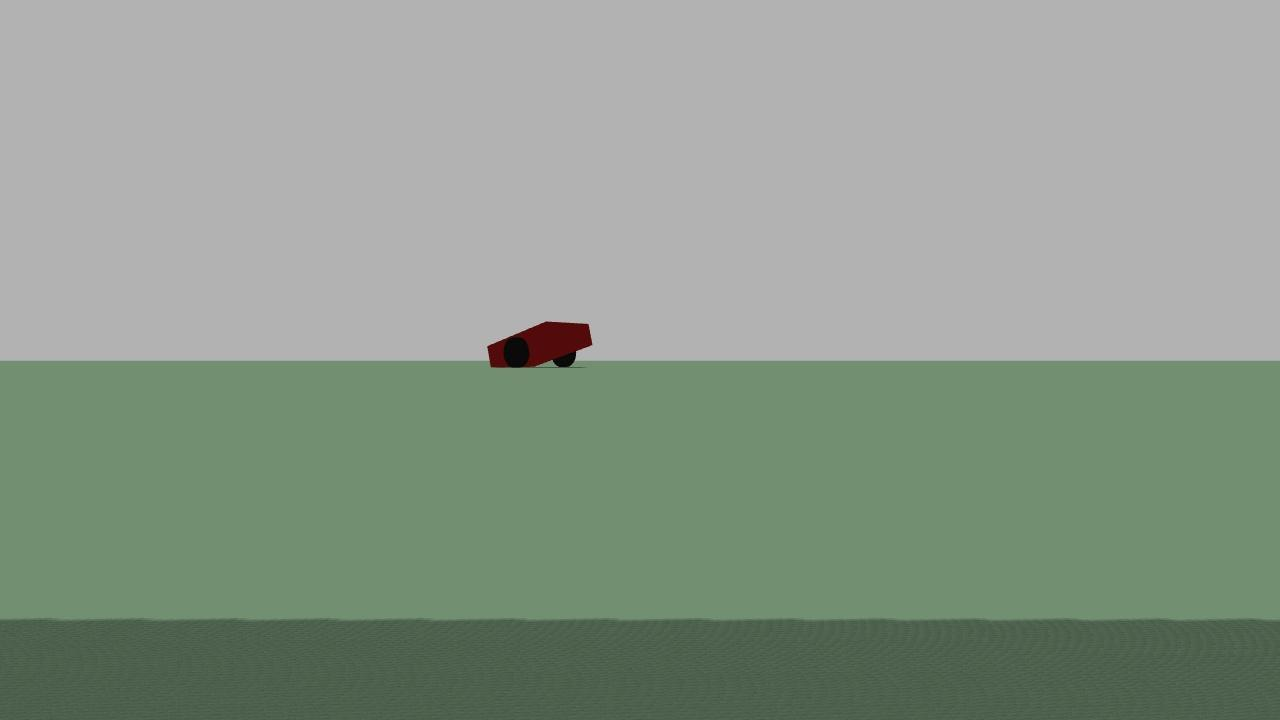ground_vehicle: (465, 312, 601, 374)
